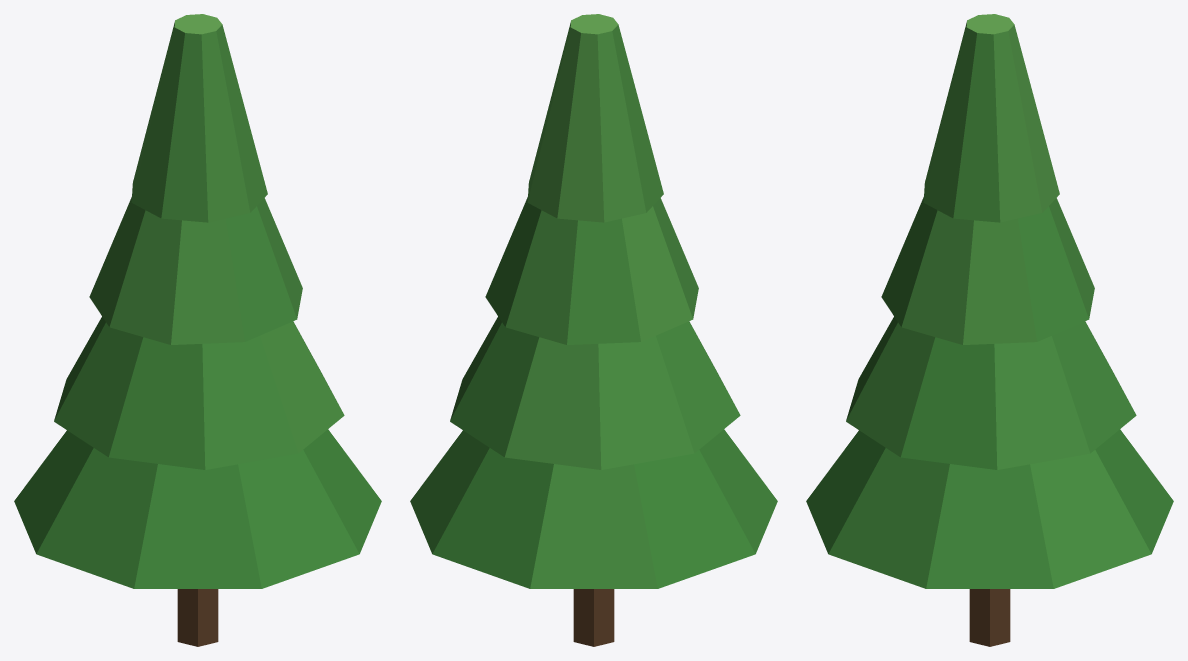
Rendered from ConeTree_0.glb.
3 renders of one model, left to right at view 1: azimuth 30°, elevation 25°; view 2: azimuth 150°, elevation 25°; view 3: azimuth 270°, elevation 25°, orthographic.
Visible parts, largest first — view 1: ConeTree_0; view 2: ConeTree_0; view 3: ConeTree_0.
Part boxes in pixels (bbox=[...]): ConeTree_0: bbox=[14, 14, 381, 646]; ConeTree_0: bbox=[410, 14, 777, 646]; ConeTree_0: bbox=[806, 14, 1173, 646].
Bounding box in the file's own units: 6.98 × 13.04 × 7.09.
Materials: 1 (1 with a texture image).
